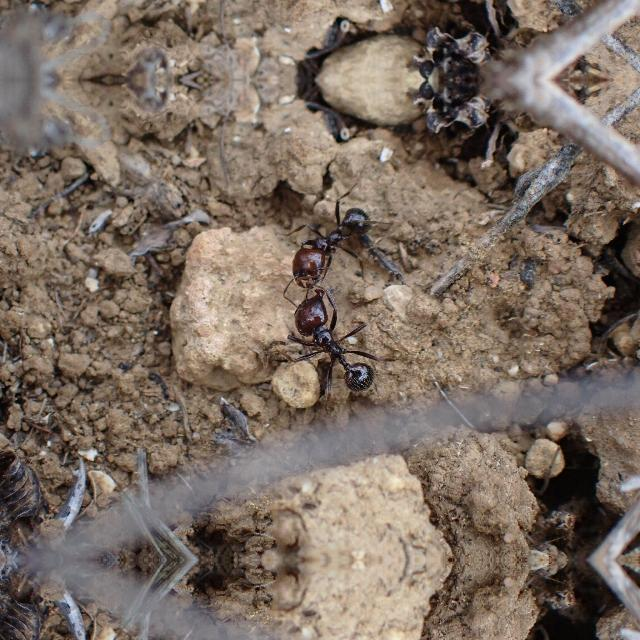Messor: (276, 284, 388, 406), (282, 195, 378, 279)
